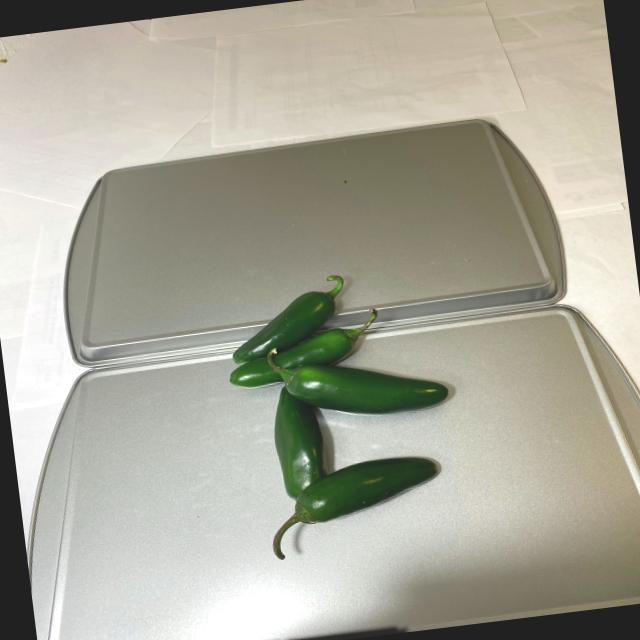chilli: (225, 256, 468, 550)
